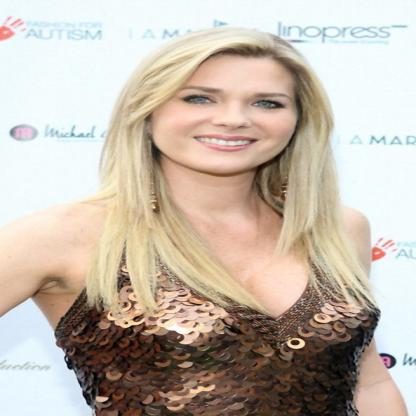long-hair: (92, 177, 350, 225)
